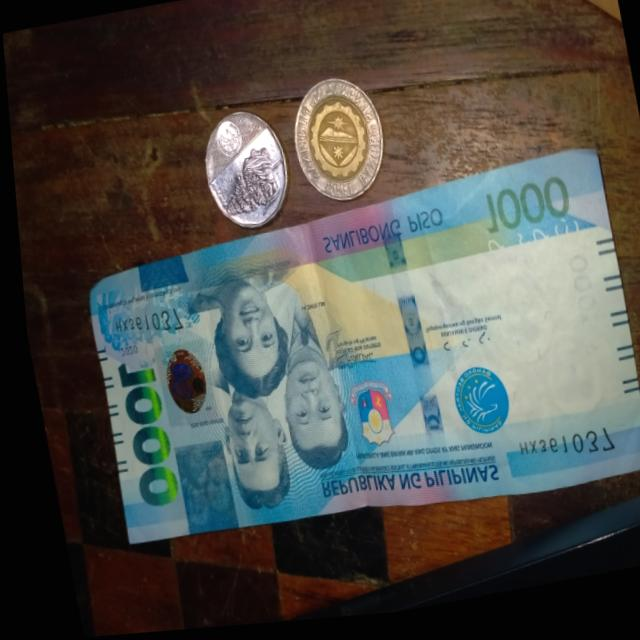concealed_value: (163, 437, 232, 540)
optically_variable_device: (142, 328, 216, 431)
see_through_mark: (470, 219, 588, 277)
value_watermark: (555, 254, 601, 341)
